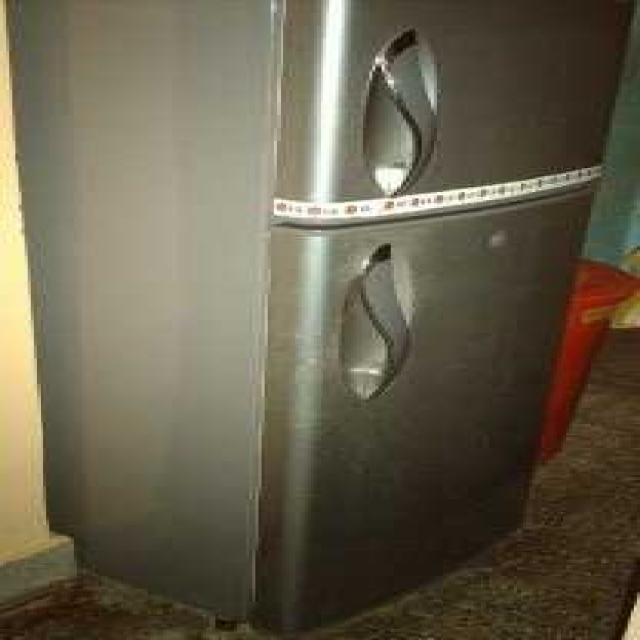refrigerator: (248, 0, 616, 640)
